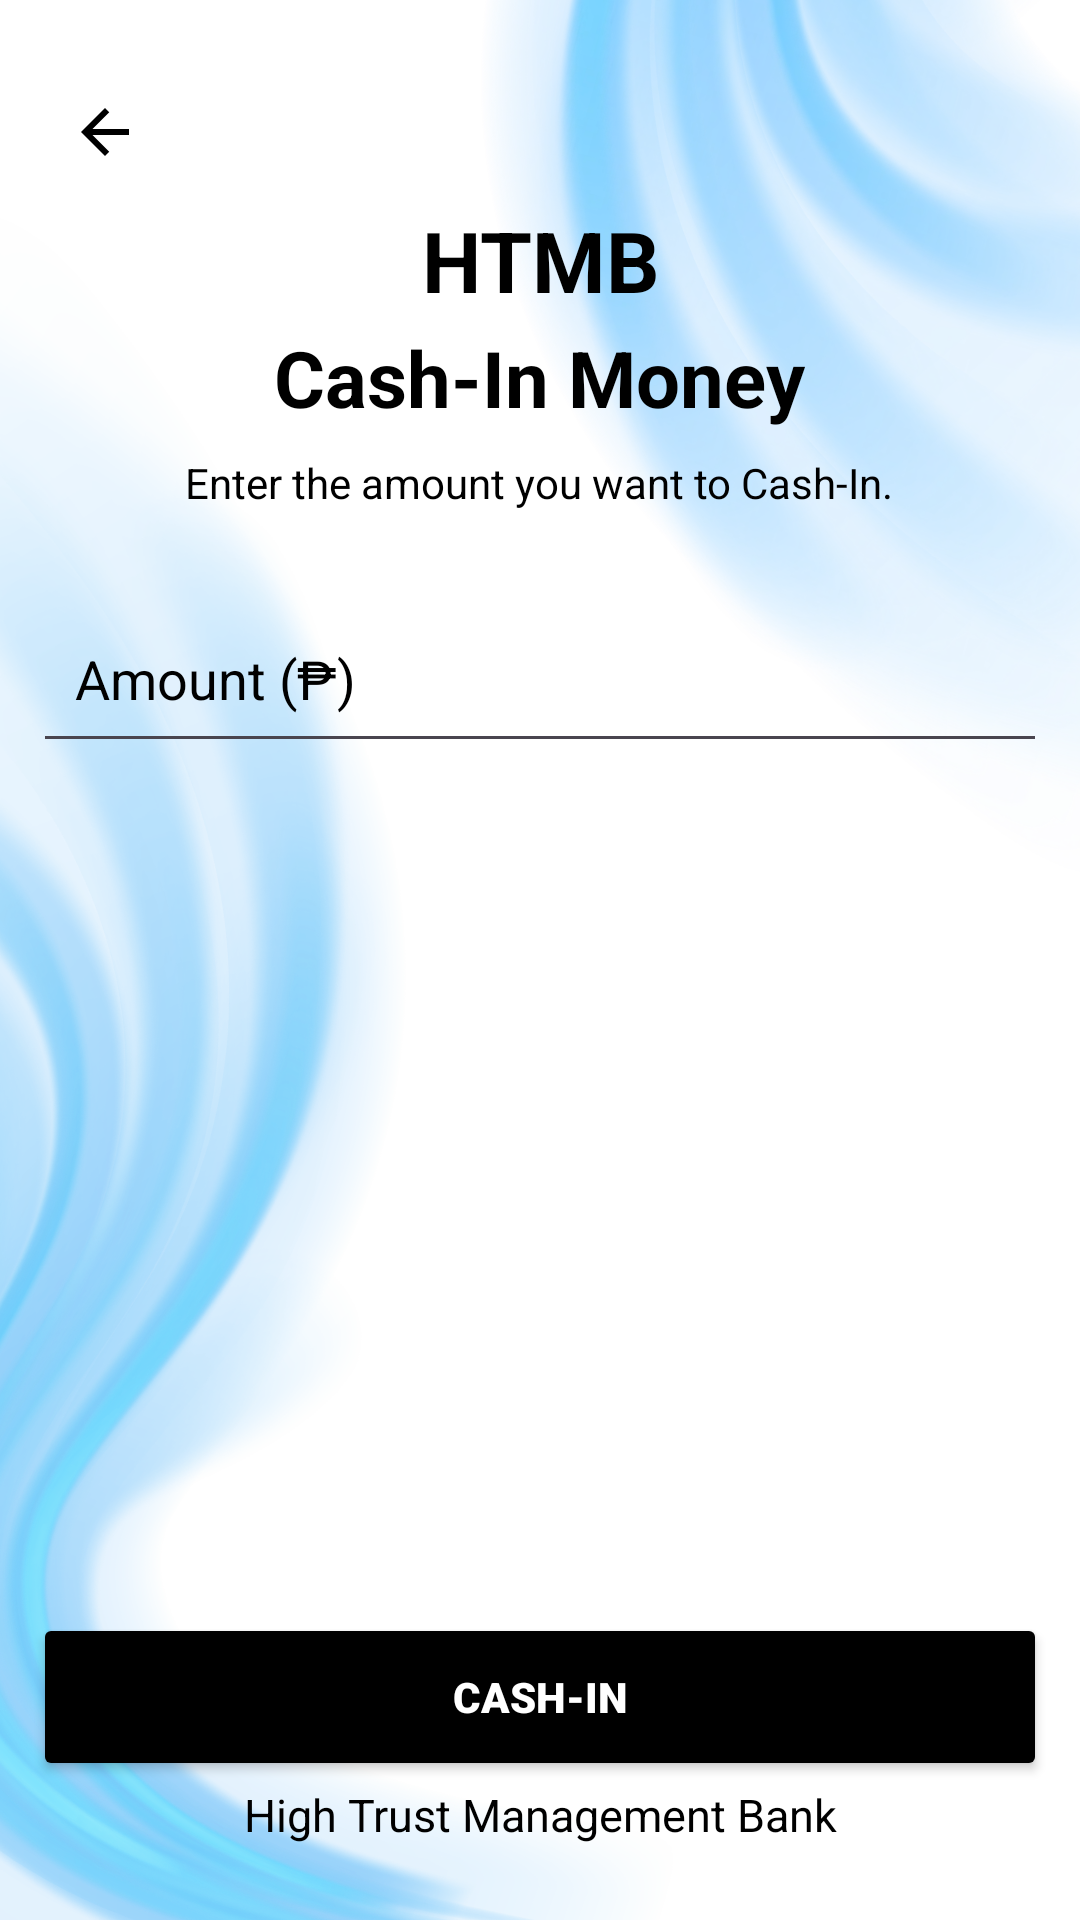

Named icons in this screenshot (1080w x 1920h) and their bounding boxes, (x1, y1, x2, y2):
Go back: (81, 108, 129, 156)
